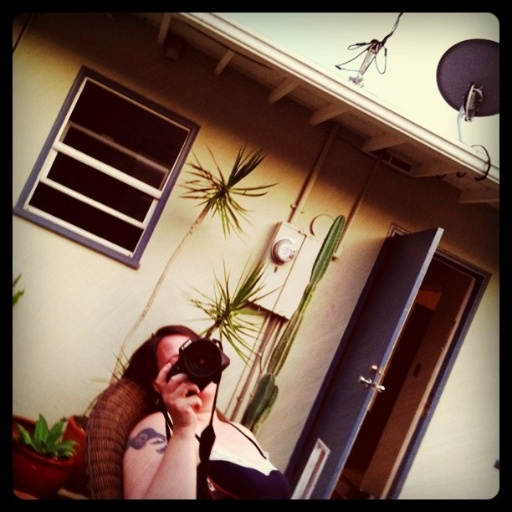hand: (148, 378, 215, 438)
